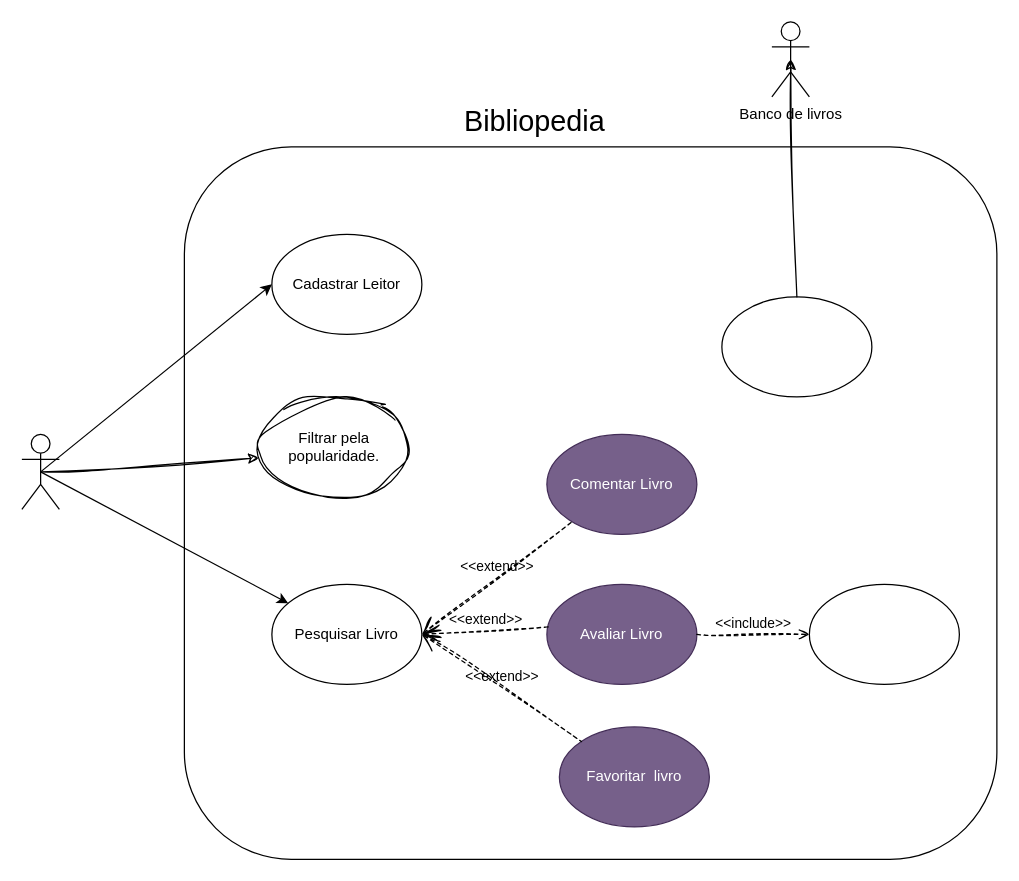
This 1019x881 diagram has some shape labels left out. Each missing label, with the centre of its shape:
"Leitor" goes at (40,471).
"Manter livro" goes at (796,346).
"Ranquear Livro" goes at (883,633).
